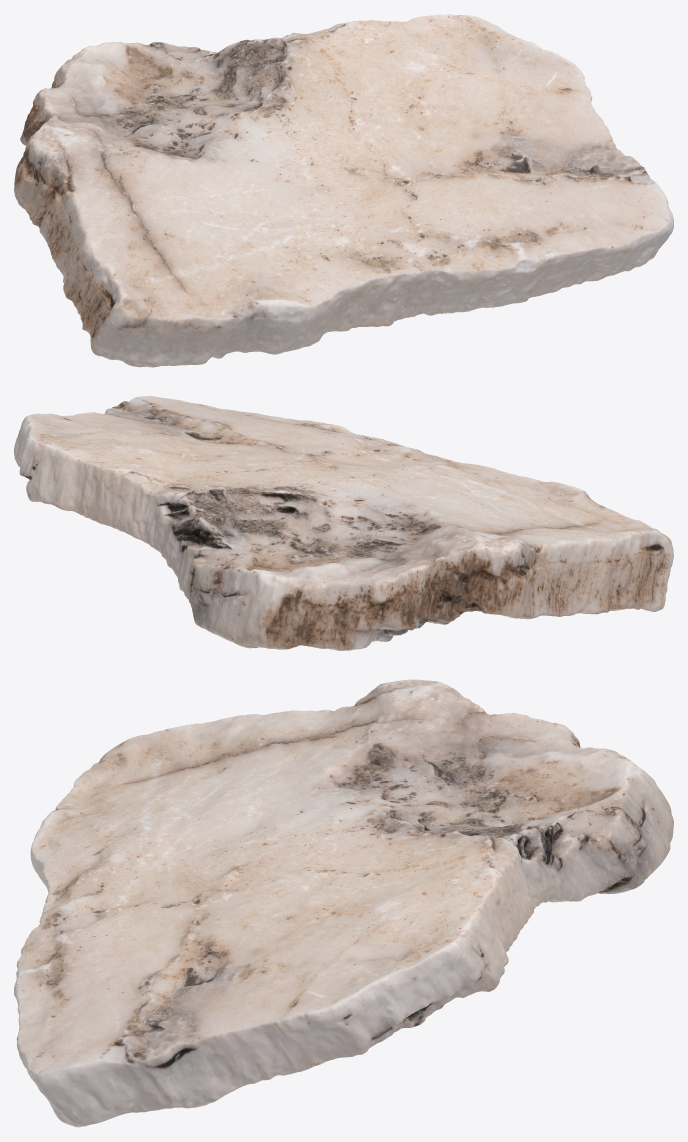
File: td_n6_-_roche_n10.glb
3 views of the same model, one above another, from view 1: azimuth 30°, elevation 25°; view 2: azimuth 150°, elevation 25°; view 3: azimuth 270°, elevation 25° (orthographic). The views are drawn at different scales.
Visible parts, largest first — view 1: Model; view 2: Model; view 3: Model.
Part boxes in pixels (x1,y1,x2,y2): Model: (14,14,673,367); Model: (14,396,673,650); Model: (14,679,673,1127).
Bounding box in the file's own units: 3.73 × 0.9629 × 3.1.
Materials: 3 (3 with a texture image).
